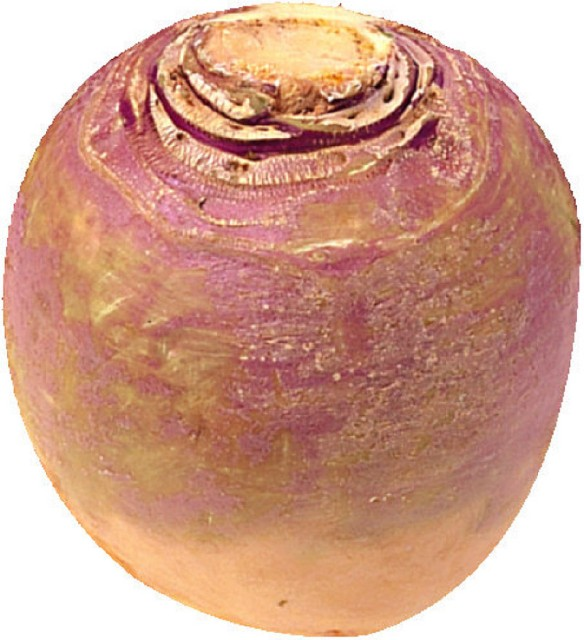turnip: (3, 0, 577, 633)
